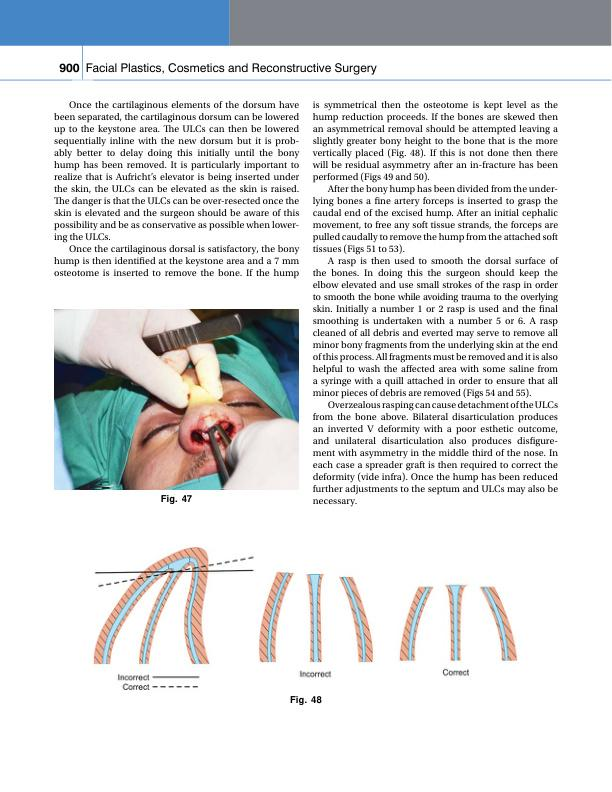caption: (159, 493, 193, 505), (289, 695, 323, 706)
header: (84, 61, 379, 77)
image: (85, 541, 530, 693), (53, 308, 300, 490)
text: (311, 99, 559, 507), (52, 99, 300, 280)
